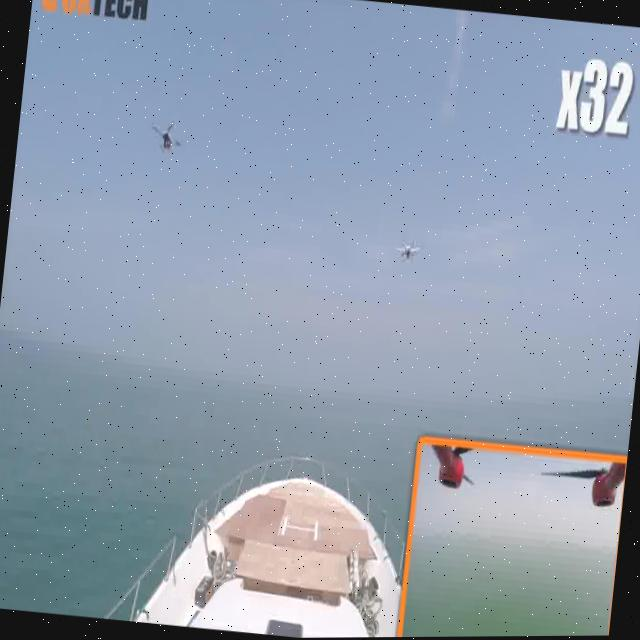drone: (138, 109, 198, 169), (388, 235, 424, 272)
